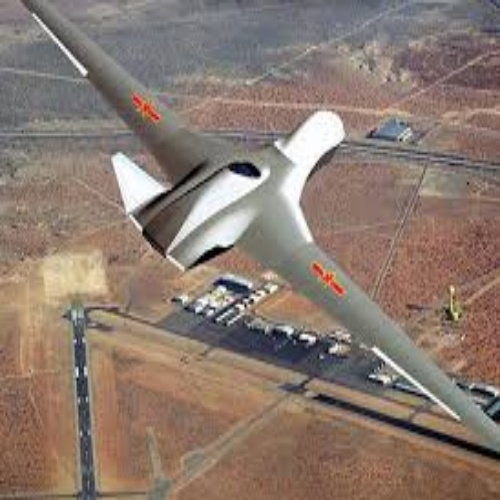uav719: (14, 4, 498, 446)
